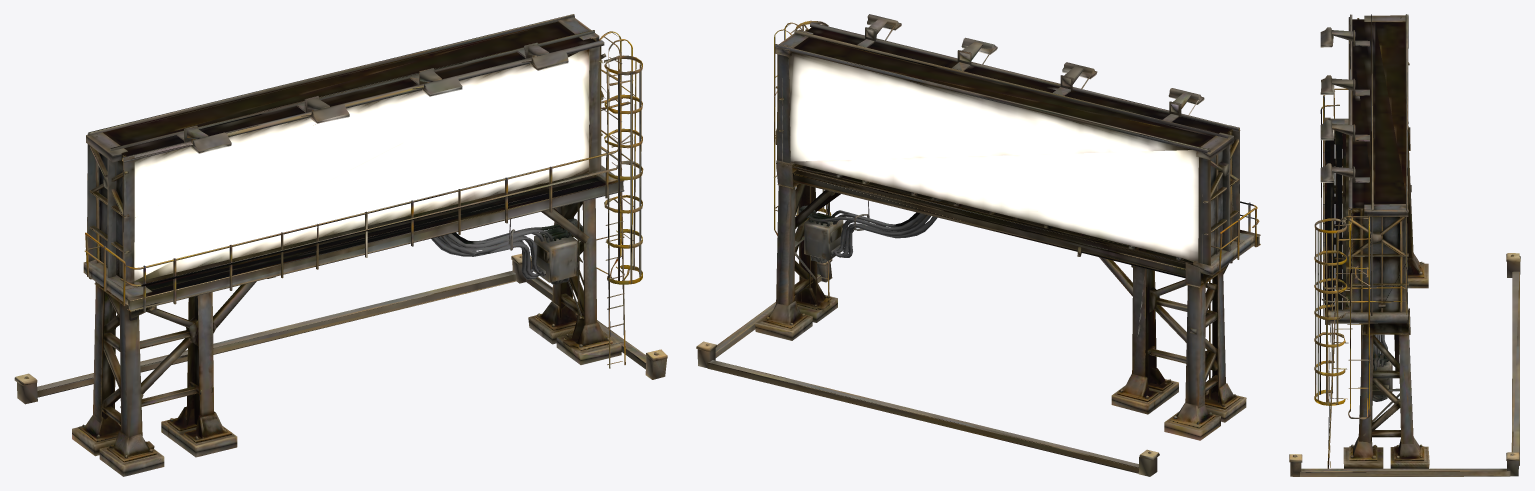
Rendered from billboard.glb.
3 views of the same model, side by side, from view 1: azimuth 30°, elevation 25°; view 2: azimuth 150°, elevation 25°; view 3: azimuth 270°, elevation 25° (orthographic). The views are drawn at different scales.
Visible parts, largest first — view 1: billboard; view 2: billboard; view 3: billboard.
Boxes of the visible parts, <box> form: billboard: <box>14,14,667,476</box>; billboard: <box>696,14,1260,476</box>; billboard: <box>1289,14,1520,476</box>.
Size of the model in its own units: 8 by 4.83 by 3.73.
1 material, 1 textured.
